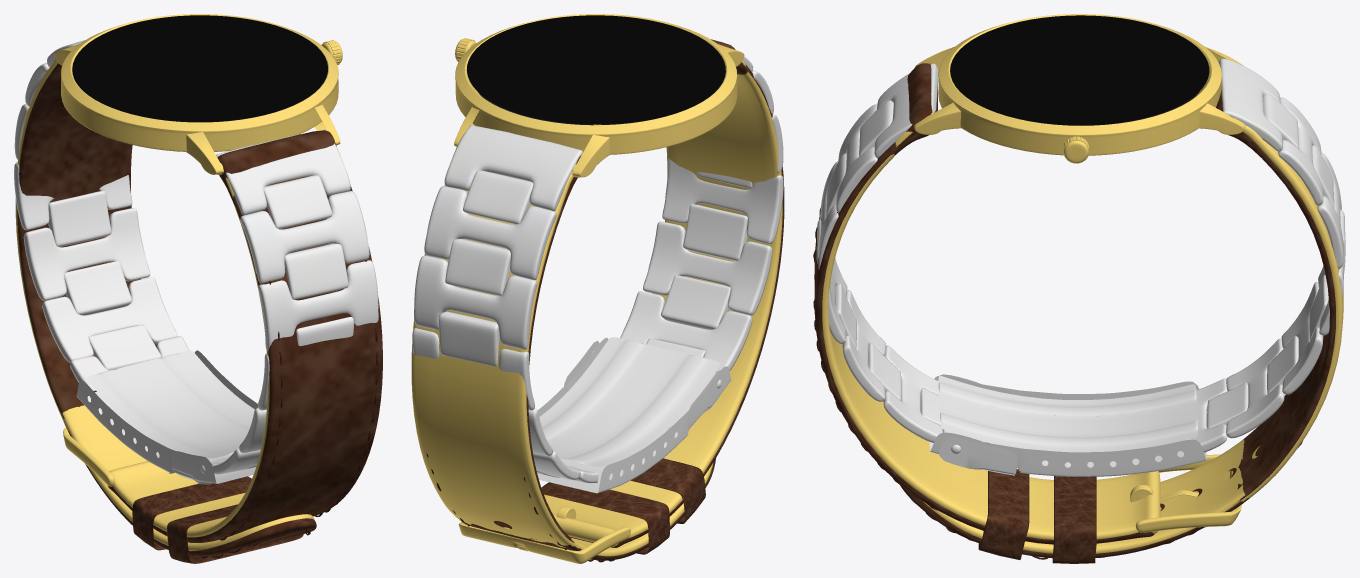
The model's file is watch_model-transformed.glb.
The picture shows the model from 3 angles, left to right: view 1: azimuth 30°, elevation 25°; view 2: azimuth 150°, elevation 25°; view 3: azimuth 270°, elevation 25°; orthographic projection.
Parts seen in each view (by area): view 1: strap-metal_Baked, strap_leather_Baked, glass_Baked, bottom-metal_Baked, top_metal_Baked, strap_gold_Baked, goma_Baked, bar_Baked, spil_Baked, stich_Baked; view 2: strap-metal_Baked, strap_gold_Baked, glass_Baked, bottom-metal_Baked, top_metal_Baked, goma_Baked, strap_leather_Baked, spil_Baked, bar_Baked, bottom-metal 2_Baked; view 3: strap-metal_Baked, strap_gold_Baked, glass_Baked, bottom-metal_Baked, strap_leather_Baked, top_metal_Baked, goma_Baked, bar_Baked, bottom-metal 2_Baked, spil_Baked.
Boxes of the visible parts, left/top/right/bottom form: strap-metal_Baked: left=14, top=40, right=378, bottom=474; strap_leather_Baked: left=17, top=63, right=382, bottom=556; glass_Baked: left=72, top=15, right=327, bottom=122; bottom-metal_Baked: left=76, top=350, right=257, bottom=483; top_metal_Baked: left=61, top=14, right=338, bottom=151; strap_gold_Baked: left=15, top=59, right=314, bottom=550; goma_Baked: left=132, top=476, right=303, bottom=563; bar_Baked: left=54, top=44, right=340, bottom=174; spil_Baked: left=63, top=428, right=175, bottom=486; stich_Baked: left=51, top=213, right=378, bottom=558; strap-metal_Baked: left=412, top=56, right=783, bottom=483; strap_gold_Baked: left=411, top=60, right=782, bottom=556; glass_Baked: left=466, top=15, right=725, bottom=124; bottom-metal_Baked: left=537, top=337, right=731, bottom=493; top_metal_Baked: left=455, top=14, right=737, bottom=154; goma_Baked: left=541, top=458, right=705, bottom=554; strap_leather_Baked: left=460, top=39, right=784, bottom=560; spil_Baked: left=458, top=506, right=630, bottom=563; bar_Baked: left=454, top=44, right=744, bottom=177; bottom-metal 2_Baked: left=564, top=341, right=721, bottom=428; strap-metal_Baked: left=816, top=58, right=1345, bottom=452; strap_gold_Baked: left=822, top=125, right=1343, bottom=553; glass_Baked: left=950, top=15, right=1209, bottom=125; bottom-metal_Baked: left=929, top=374, right=1206, bottom=476; strap_leather_Baked: left=814, top=63, right=1335, bottom=558; top_metal_Baked: left=938, top=14, right=1221, bottom=155; goma_Baked: left=978, top=469, right=1096, bottom=563; bar_Baked: left=914, top=46, right=1245, bottom=134; bottom-metal 2_Baked: left=939, top=377, right=1017, bottom=475; spil_Baked: left=1130, top=454, right=1241, bottom=532.
Size of the model in its own units: 2.43 by 4.16 by 4.28.
Materials: 1 (1 with a texture image).
